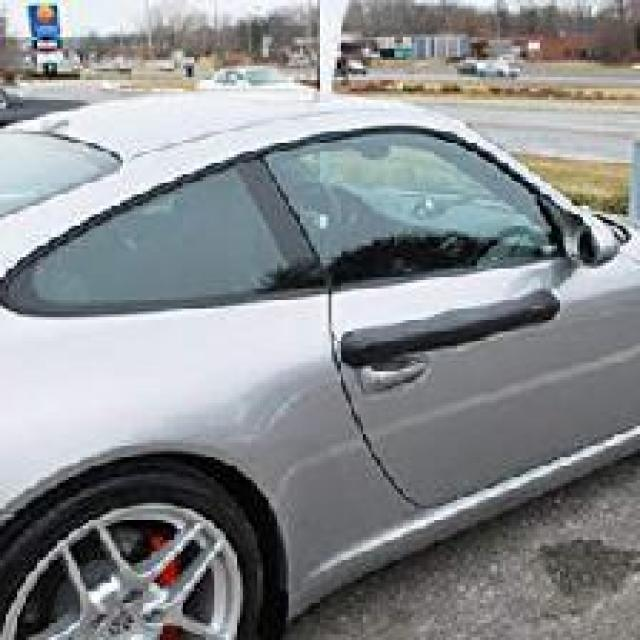damaged: (243, 366, 386, 514)
